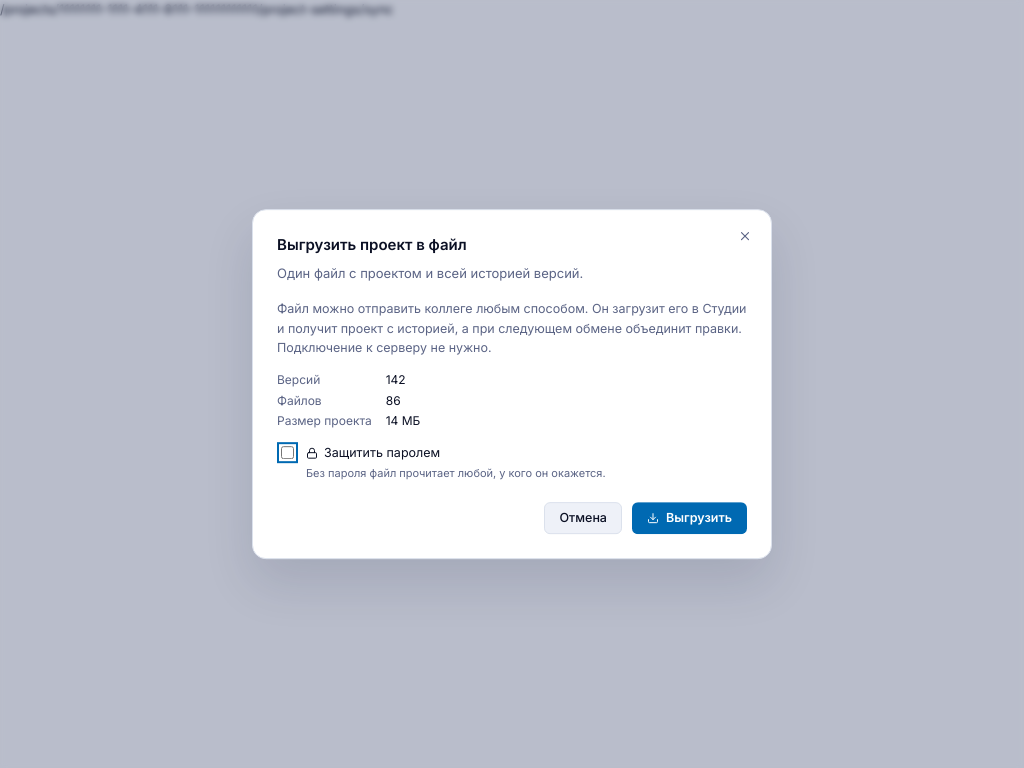
it: окно выгрузки проекта в файл › показывает отказ сервера и даёт повторить
Click the button "Выгрузить": coordinates (690, 518) 632,502 -> 747,534
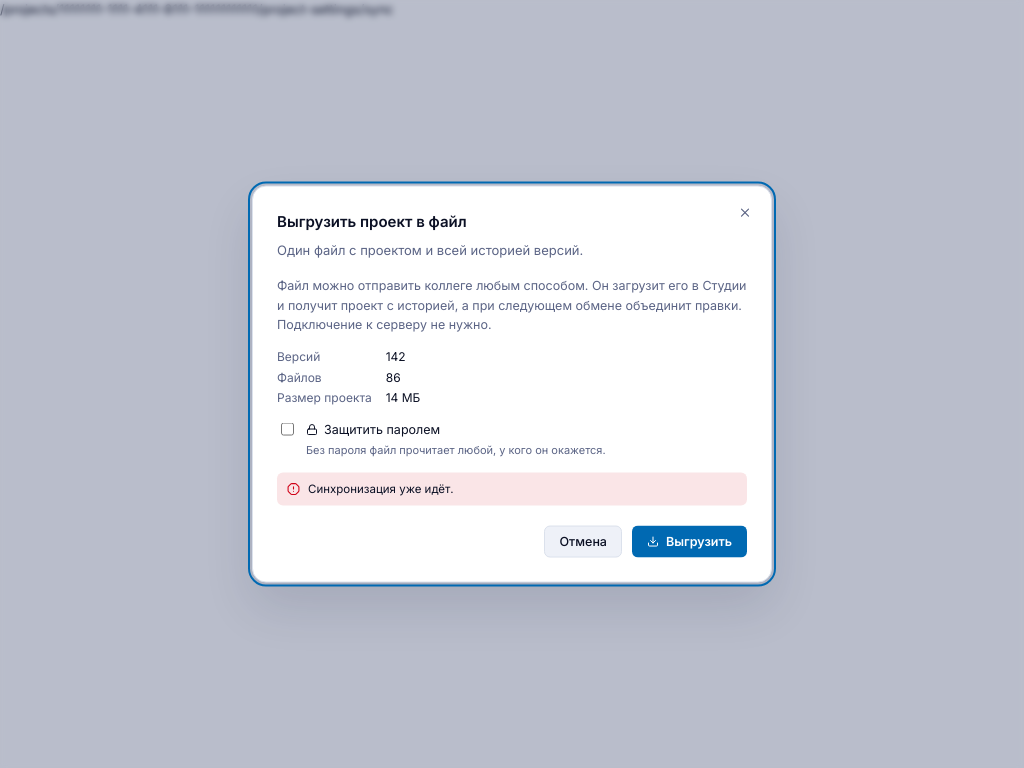
Expected: the message reads "Синхронизация уже идёт.", 308,481 -> 454,495
Click the button "Выгрузить": coordinates (690, 542) 632,526 -> 747,558
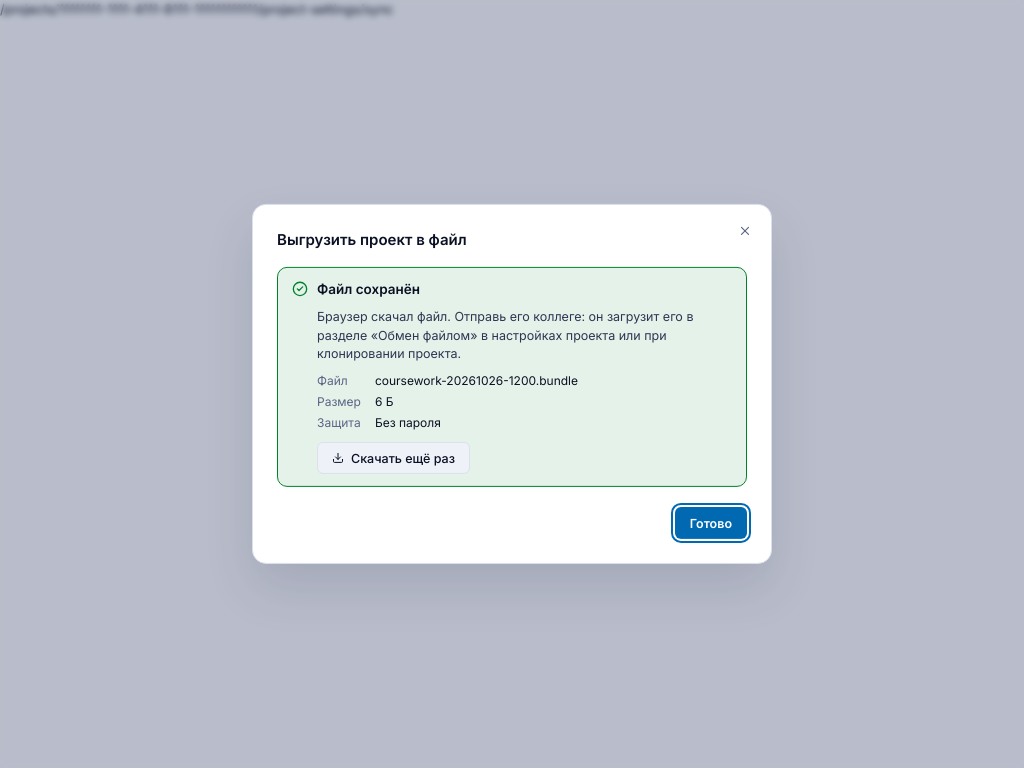
Expected: the message with test id "export-done" is shown, 277,267 -> 747,487
